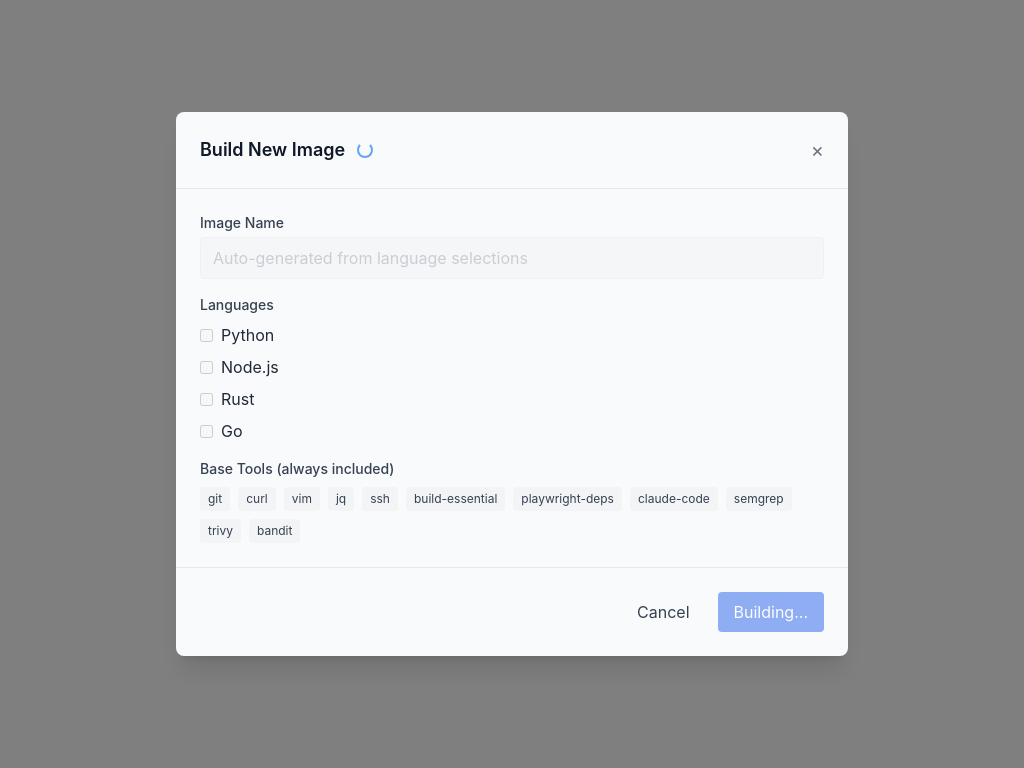
ImageBuilderDialog › shows confirmation when closing during an active build
Click the button named "Close dialog" at (817, 150), box [811, 140, 824, 160]
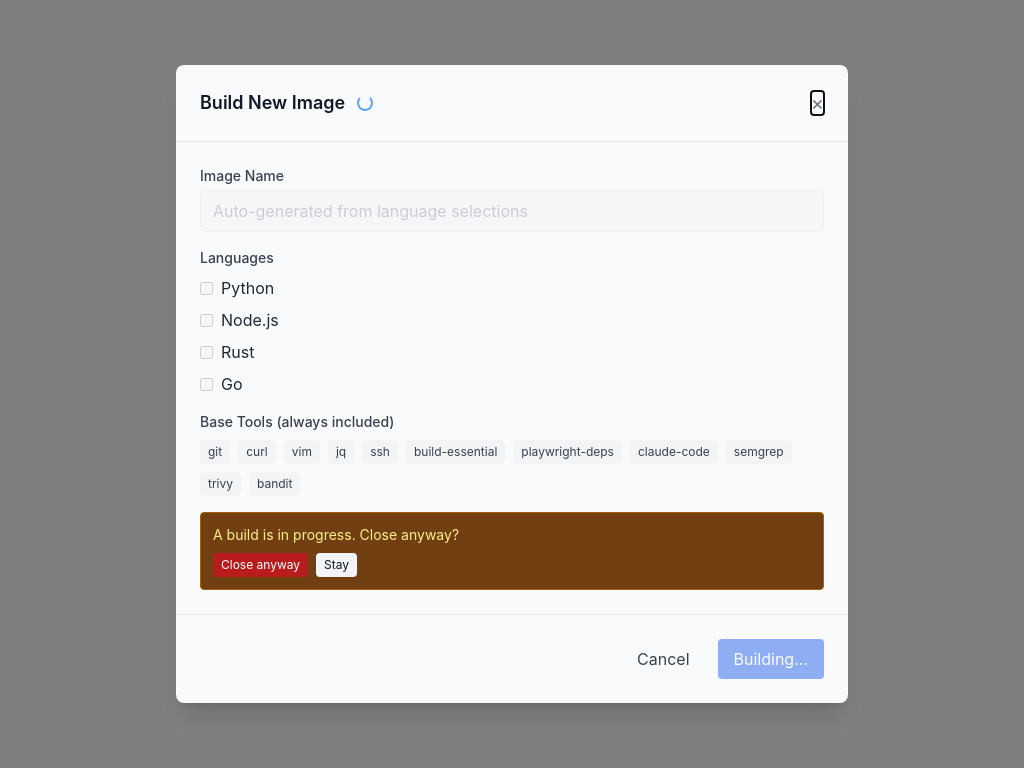
Now the text "A build is in progress. Close anyway?" is shown, box [213, 526, 459, 543]
Now the button "Close anyway" is shown, box [213, 553, 308, 577]
